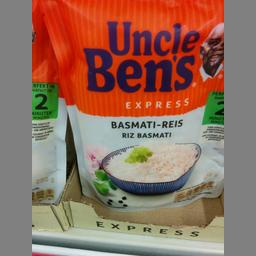rice: (38, 0, 222, 209)
